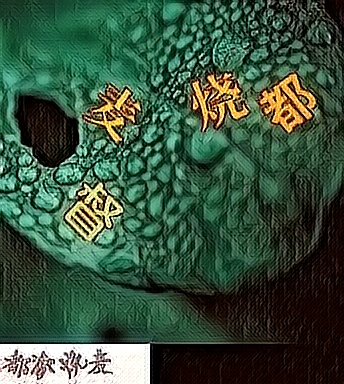B6BC: (255, 71, 320, 138)
B6BD: (61, 176, 126, 243)
C2F3: (76, 77, 141, 144)
C9D5: (187, 66, 252, 133)
